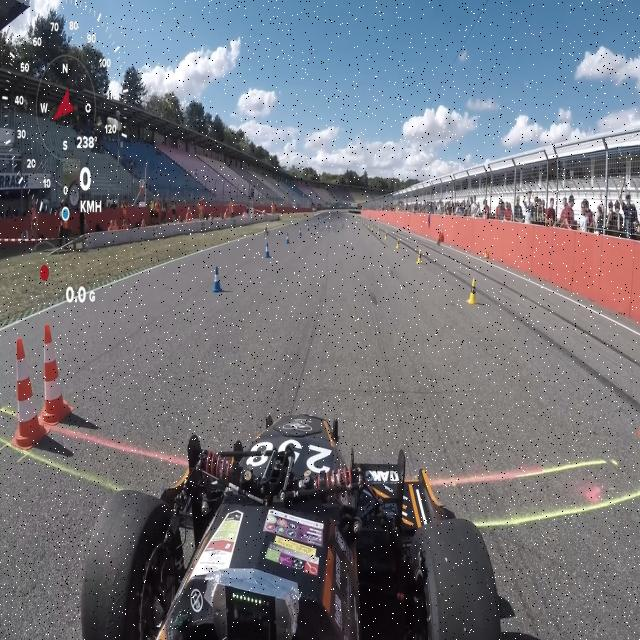blue_cone: (198, 250, 228, 300), (260, 228, 274, 264)
yellow_cone: (458, 264, 480, 324), (408, 236, 427, 266)
